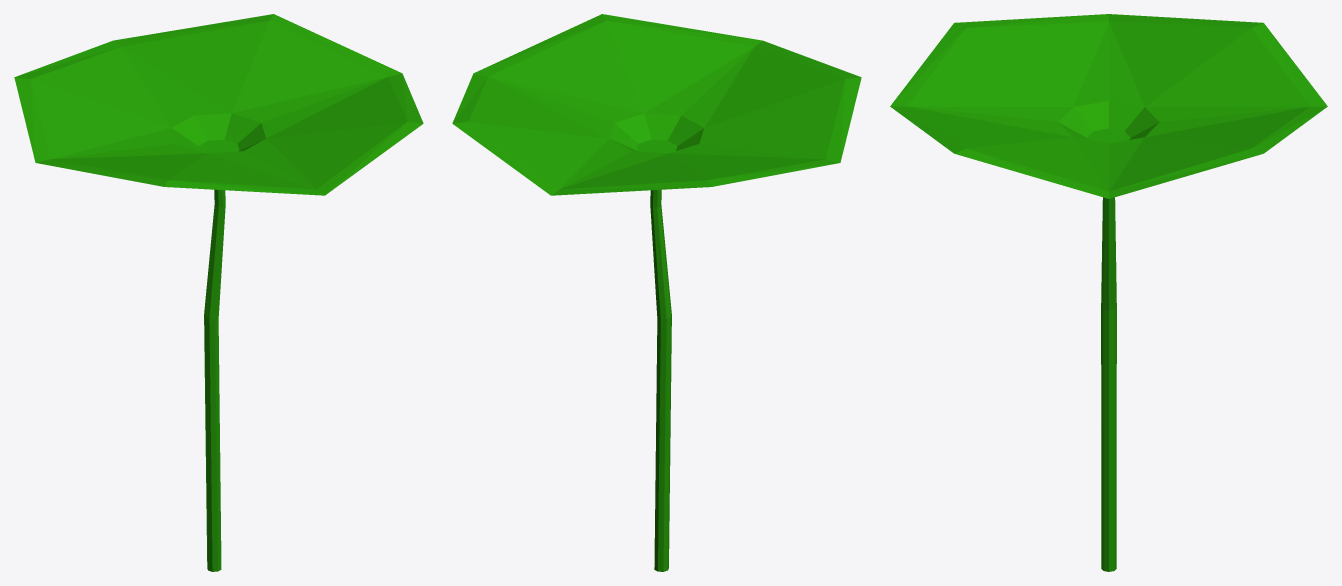
File: Vegetation_Verdant_Plant_Lily_Pad_01.FBX
3 views of the same model, side by side, from view 1: azimuth 30°, elevation 25°; view 2: azimuth 150°, elevation 25°; view 3: azimuth 270°, elevation 25° (orthographic). The views are drawn at different scales.
Parts seen in each view (by area): view 1: Vegetation_Verdant_Plant_Lily_Pad_01; view 2: Vegetation_Verdant_Plant_Lily_Pad_01; view 3: Vegetation_Verdant_Plant_Lily_Pad_01.
Boxes of the visible parts, x1,y1,x2,y2 form: Vegetation_Verdant_Plant_Lily_Pad_01: [14, 14, 423, 571]; Vegetation_Verdant_Plant_Lily_Pad_01: [452, 14, 861, 571]; Vegetation_Verdant_Plant_Lily_Pad_01: [890, 14, 1327, 571].
Bounding box in the file's own units: 989 × 1203 × 989.
